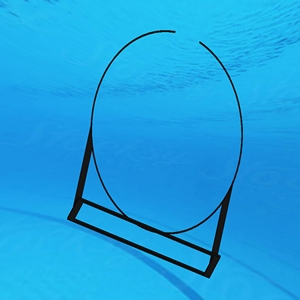circle: (67, 29, 245, 278)
